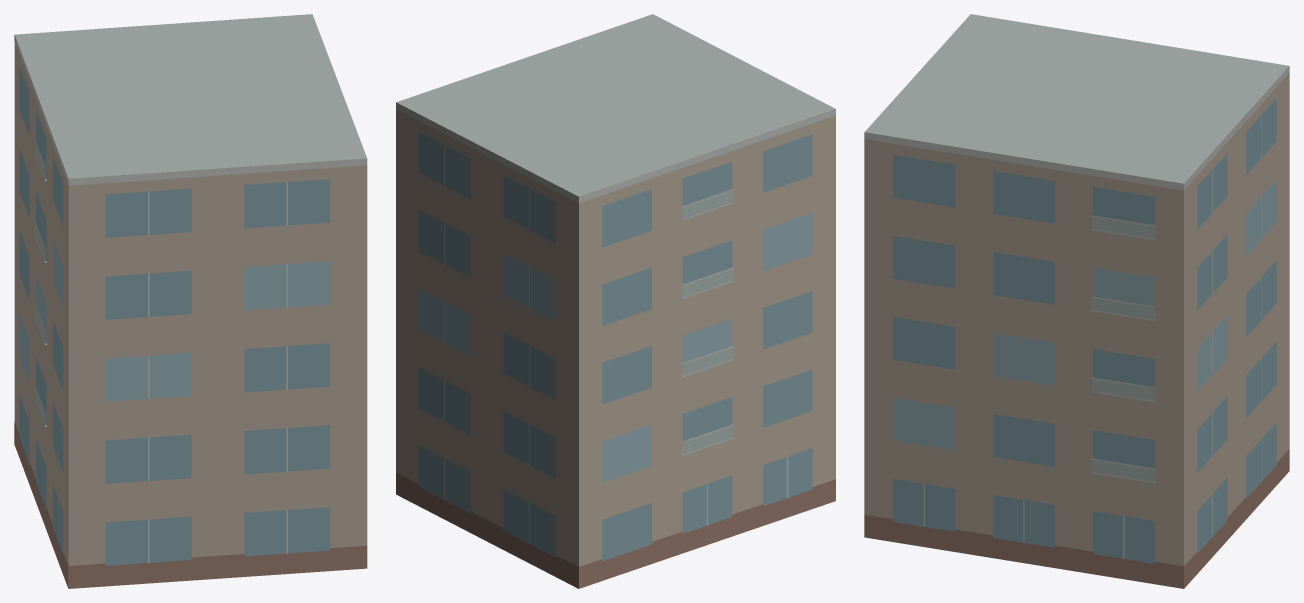
File: survey-upis-32878016.glb
3 views of the same model, side by side, from view 1: azimuth 30°, elevation 25°; view 2: azimuth 150°, elevation 25°; view 3: azimuth 270°, elevation 25° (orthographic). The views are drawn at different scales.
Parts seen in each view (by area): view 1: survey-upis-32878016.tmp; view 2: survey-upis-32878016.tmp; view 3: survey-upis-32878016.tmp.
Boxes of the visible parts, box(x1,y1,x2,y2) form: survey-upis-32878016.tmp: box(14, 14, 367, 588); survey-upis-32878016.tmp: box(396, 14, 835, 588); survey-upis-32878016.tmp: box(864, 14, 1289, 588).
Bounding box in the file's own units: 12.94 × 14.4 × 13.7.
